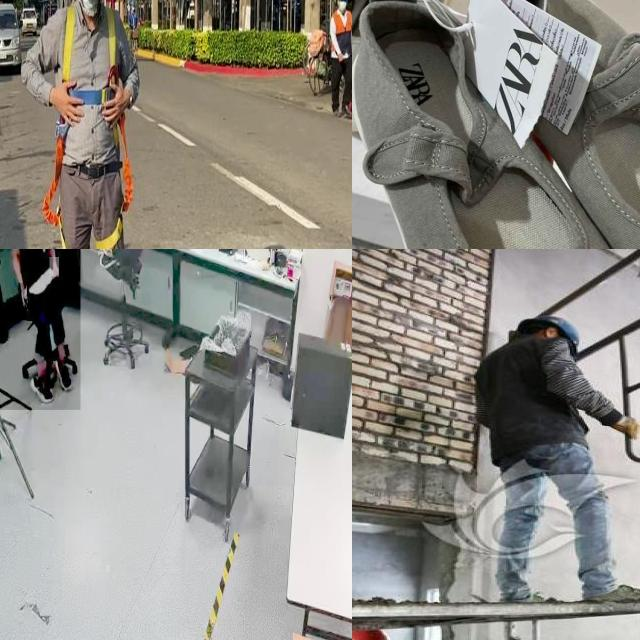Harness: (62, 5, 121, 106), (95, 111, 134, 249), (41, 137, 66, 249)
Sandals: (352, 0, 640, 249)
hand_glove: (612, 409, 640, 443)
hand_noglove: (19, 283, 29, 310), (50, 257, 60, 277)
head_helmet: (522, 311, 587, 348), (352, 624, 396, 640)
person: (471, 306, 640, 606), (0, 249, 80, 411)
shoes: (575, 572, 640, 607), (492, 577, 558, 611), (25, 366, 55, 411), (54, 354, 75, 396)
